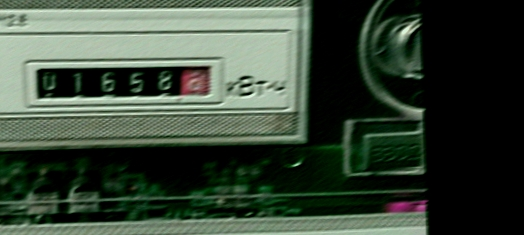0: (40, 70, 57, 91)
1: (70, 70, 85, 95)
5: (128, 70, 145, 95)
6: (99, 70, 118, 95)
8: (156, 69, 174, 92)
9: (185, 76, 202, 98)
screen: (20, 50, 228, 115)
